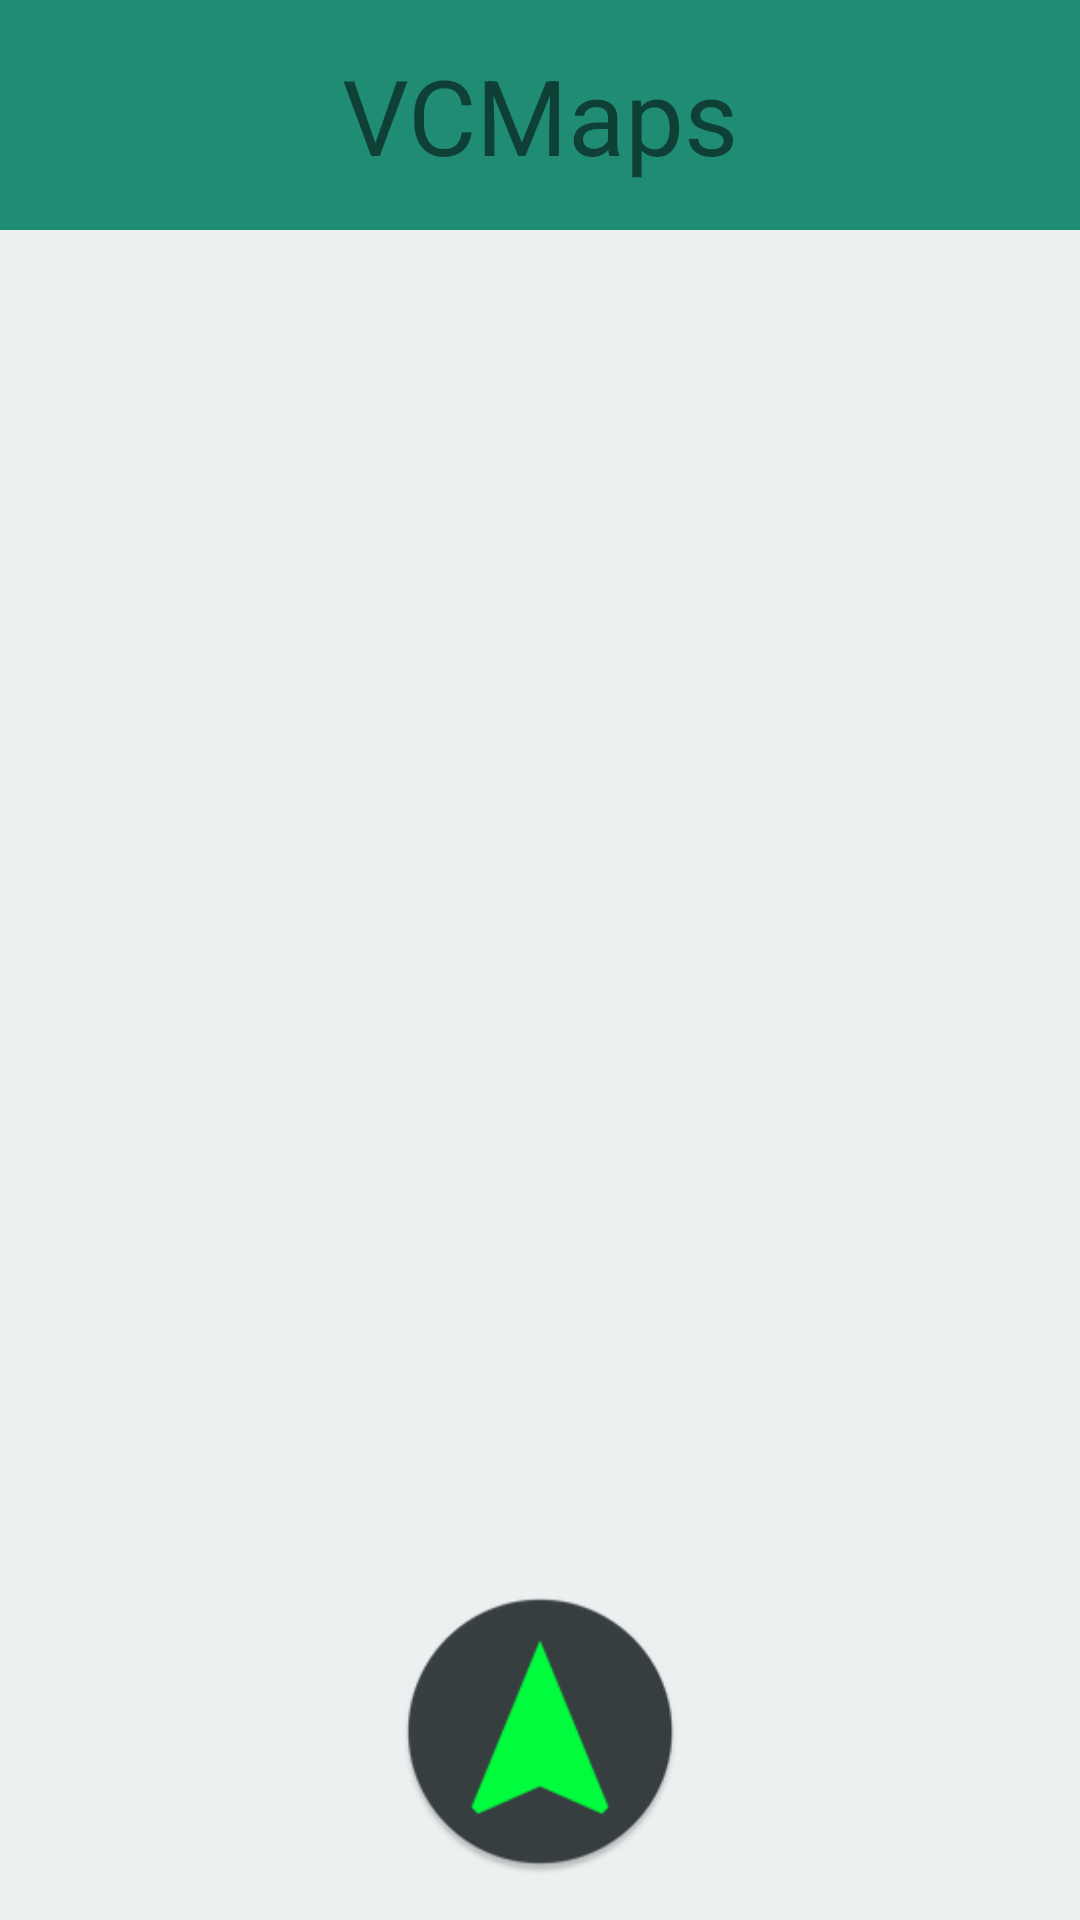

Icon bounding boxes for this 1080px x 1920px phone screenshot, format (x1, y1, x2, y2):
navigation: (407, 1598, 674, 1870)
